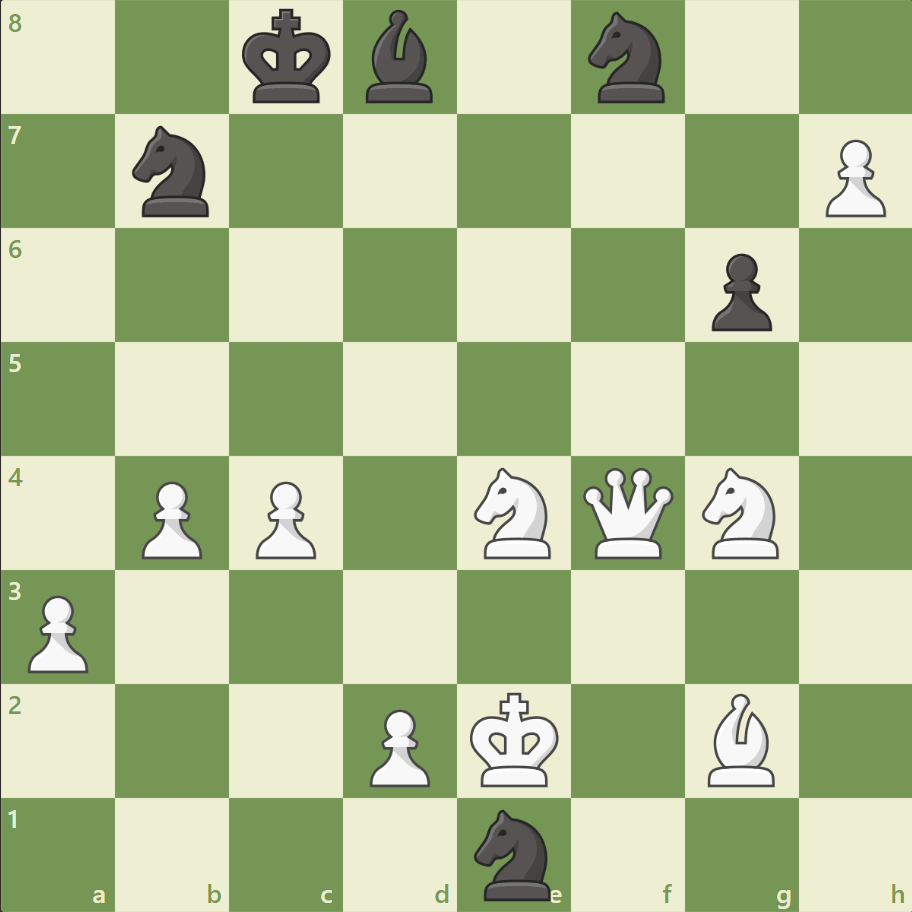B: (698, 687, 782, 790)
K: (465, 685, 565, 793)
N: (465, 461, 562, 564), (692, 461, 789, 564)
P: (133, 473, 208, 564), (247, 473, 322, 564), (20, 586, 95, 677), (815, 132, 889, 223), (361, 700, 435, 791)
Q: (578, 463, 677, 562)
b: (358, 6, 442, 109)
k: (238, 4, 338, 112)
n: (124, 121, 222, 223), (579, 7, 676, 110), (465, 802, 562, 904)
p: (701, 246, 776, 337)
